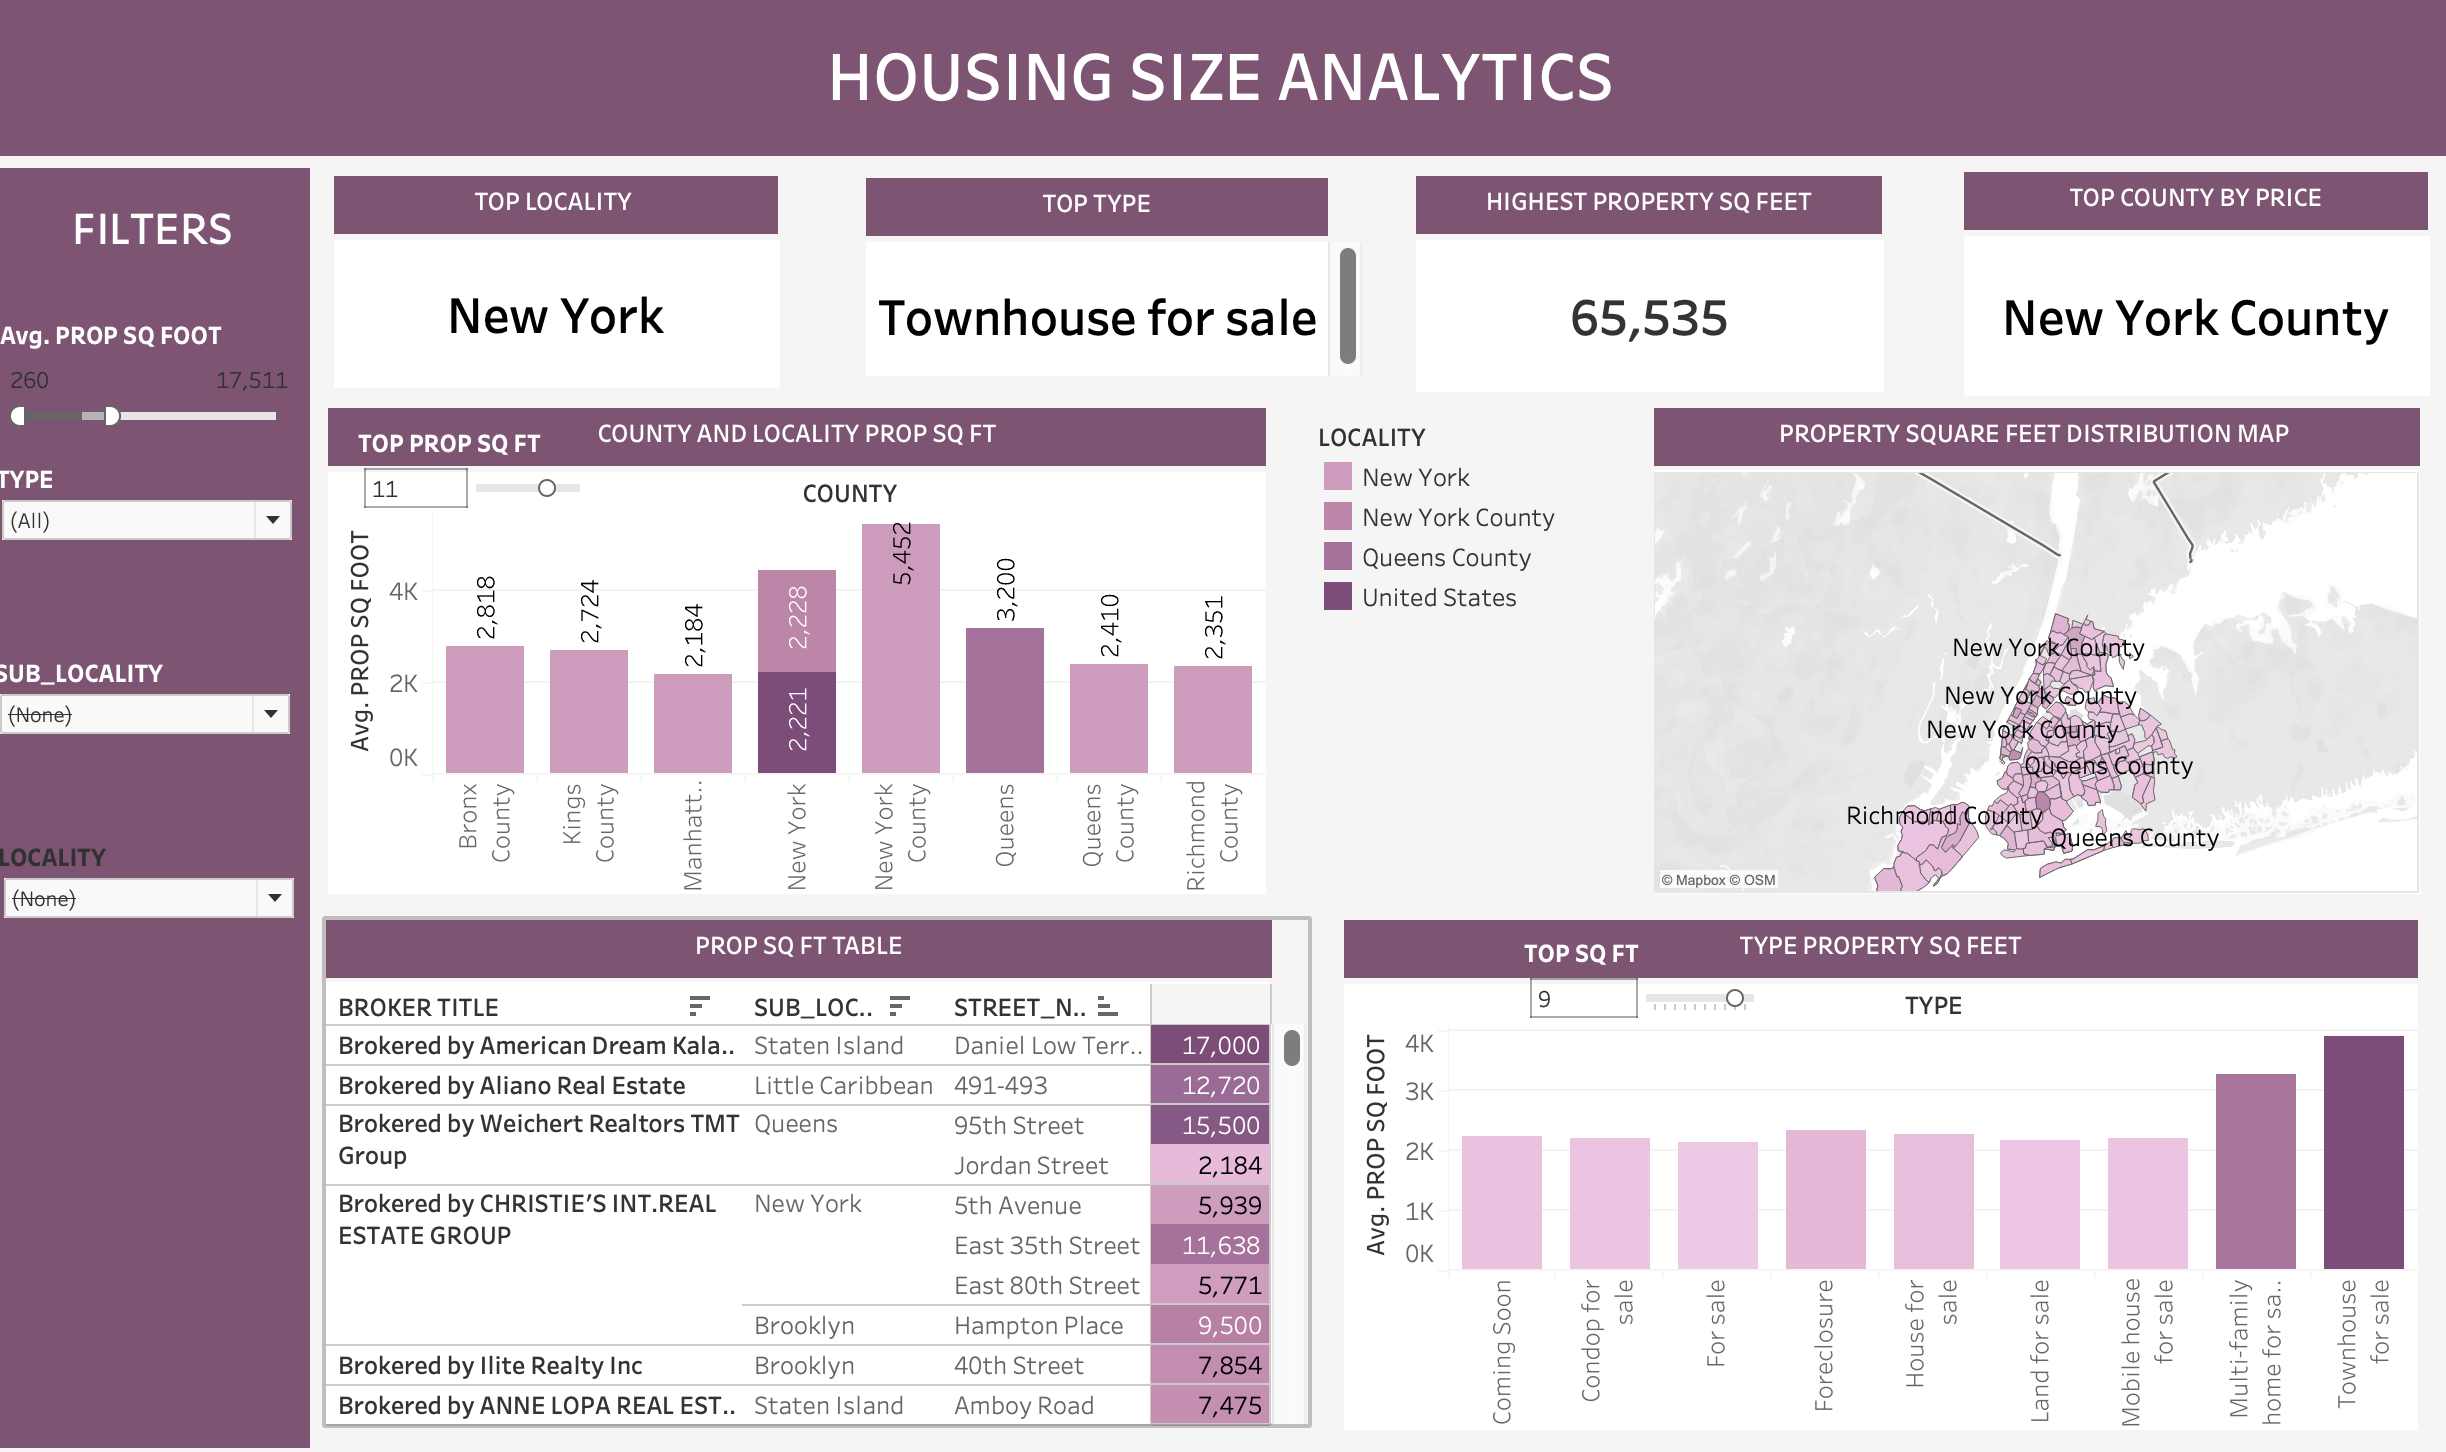

Layout of this report page (visuals, bound fields, positions):
{"tool":"tableau","page":{"name":"HOUSING SIZE ANALYSIS","canvas":[1000,1000],"units":"permille","ordinal":2},"visuals":[{"type":"text","box":[1.5,11.1,996.9,110.7]},{"type":"worksheet","title":"TOP COUNTY BY PRICE ","mark":"Automatic","box":[801.9,132.7,191,155.6]},{"type":"worksheet","title":"HIGH SQ FT","mark":"Automatic","box":[579.2,135.2,332.8,334.2]},{"type":"worksheet","title":"TOP LOCALITY BY SQ FT","mark":"Automatic","box":[139.9,135.3,332.8,148.8]},{"type":"worksheet","title":"TOP TYPE BY SQ FT","mark":"Automatic","box":[355.8,136.5,332.8,136.5]},{"type":"text","box":[2.3,142.7,127.6,57.8]},{"type":"filter","title":"PROP SQ FEET DISTRIBUTION","param":"[federated.0kvu42z1iqwr2r0zqkhqn0pgwafr].[avg:F6:qk]","box":[3.8,232.5,123,75]},{"type":"worksheet","title":"COUNTY LOCALITY SQ FT","mark":"Automatic","rows":["F6"],"cols":["F12"],"box":[137.6,294,381.2,333.3]},{"type":"worksheet","title":"PROP SQ FEET DISTRIBUTION","mark":"Automatic","box":[675.6,294,311.3,333.3]},{"type":"legend","title":"COUNTY LOCALITY SQ FT","param":"[federated.0kvu42z1iqwr2r0zqkhqn0pgwafr].[none:F11:nk]","box":[539.6,302.6,107.6,145.1]},{"type":"parameter","param":"[Parameters].[Parameter 4]","box":[149.1,306.3,92.2,82.4]},{"type":"filter","title":"PROP SQ FEET DISTRIBUTION","param":"[federated.0kvu42z1iqwr2r0zqkhqn0pgwafr].[none:F2:nk]","box":[2.3,332.1,123,54.1]},{"type":"filter","title":"PROP SQ FEET DISTRIBUTION","param":"[federated.0kvu42z1iqwr2r0zqkhqn0pgwafr].[none:F13:nk]","box":[1.5,463.7,123,54.1]},{"type":"filter","title":"PROP SQ FEET DISTRIBUTION","param":"[federated.0kvu42z1iqwr2r0zqkhqn0pgwafr].[none:F11:nk]","box":[3.1,590.4,123,54.1]},{"type":"worksheet","title":"TYPE PROP SQ FT","mark":"Automatic","rows":["F6"],"cols":["F2"],"box":[550.4,644.5,436.6,349.3]},{"type":"worksheet","title":"SQ FT TABLE","mark":"Square","rows":["F1","F13","F14"],"box":[136.8,645.8,398.9,346.9]},{"type":"parameter","param":"[Parameters].[Parameter 3]","box":[623.4,655.6,96.1,82.4]}]}

Visuals, with their boxes on the dashboard's canvas, which has no fixed pixel size, in thousandths of its width and height (x1, y1, x2, y2). These are canvas units, not pixel positions in the 2446x1452 screenshot, which may show the page scaled, cropped or inside an application window:
text: select_region(2, 11, 998, 122)
"TOP COUNTY BY PRICE " worksheet: select_region(802, 133, 993, 288)
"HIGH SQ FT" worksheet: select_region(579, 135, 912, 469)
"TOP LOCALITY BY SQ FT" worksheet: select_region(140, 135, 473, 284)
"TOP TYPE BY SQ FT" worksheet: select_region(356, 136, 689, 273)
text: select_region(2, 143, 130, 200)
"PROP SQ FEET DISTRIBUTION" filter: select_region(4, 232, 127, 308)
"COUNTY LOCALITY SQ FT" worksheet: select_region(138, 294, 519, 627)
"PROP SQ FEET DISTRIBUTION" worksheet: select_region(676, 294, 987, 627)
"COUNTY LOCALITY SQ FT" legend: select_region(540, 303, 647, 448)
parameter: select_region(149, 306, 241, 389)
"PROP SQ FEET DISTRIBUTION" filter: select_region(2, 332, 125, 386)
"PROP SQ FEET DISTRIBUTION" filter: select_region(2, 464, 124, 518)
"PROP SQ FEET DISTRIBUTION" filter: select_region(3, 590, 126, 644)
"TYPE PROP SQ FT" worksheet: select_region(550, 644, 987, 994)
"SQ FT TABLE" worksheet (Square marks): select_region(137, 646, 536, 993)
parameter: select_region(623, 656, 720, 738)
